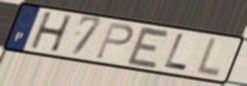7: (64, 15, 104, 60)
E: (125, 24, 172, 70)
H: (28, 11, 74, 54)
L: (193, 36, 223, 80), (163, 33, 189, 73)
P: (94, 21, 135, 61)
